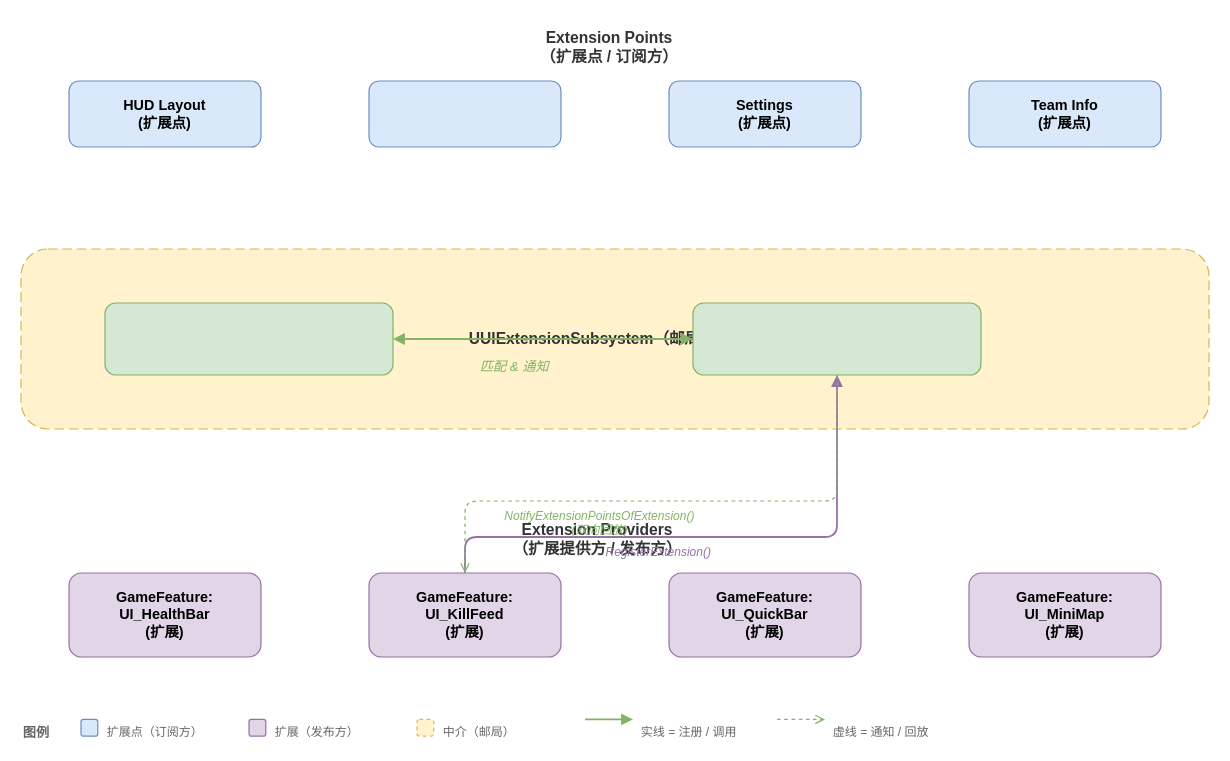
The diagram is 1230 pixels wide and 761 high, and some of its shapes have lost their labels. Here are the shapes that lost their labels. From the top down, the centre of each, then its label:
At (464,113): "Pause Menu (扩展点)".
At (248,338): "ExtensionPointRegistry (注册的扩展点)".
At (836,338): "ExtensionRegistry (注册的扩展)".
